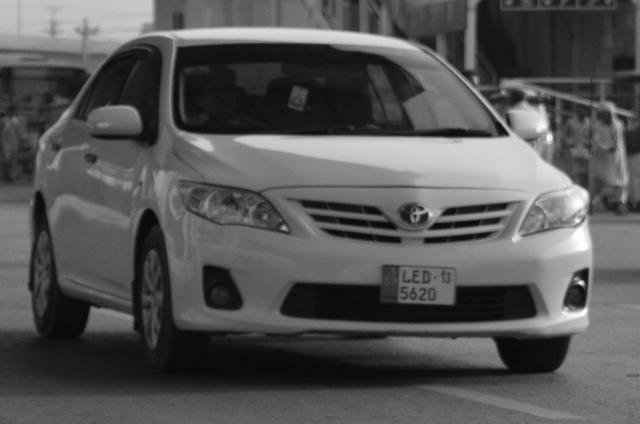Number: (400, 269, 438, 301)
